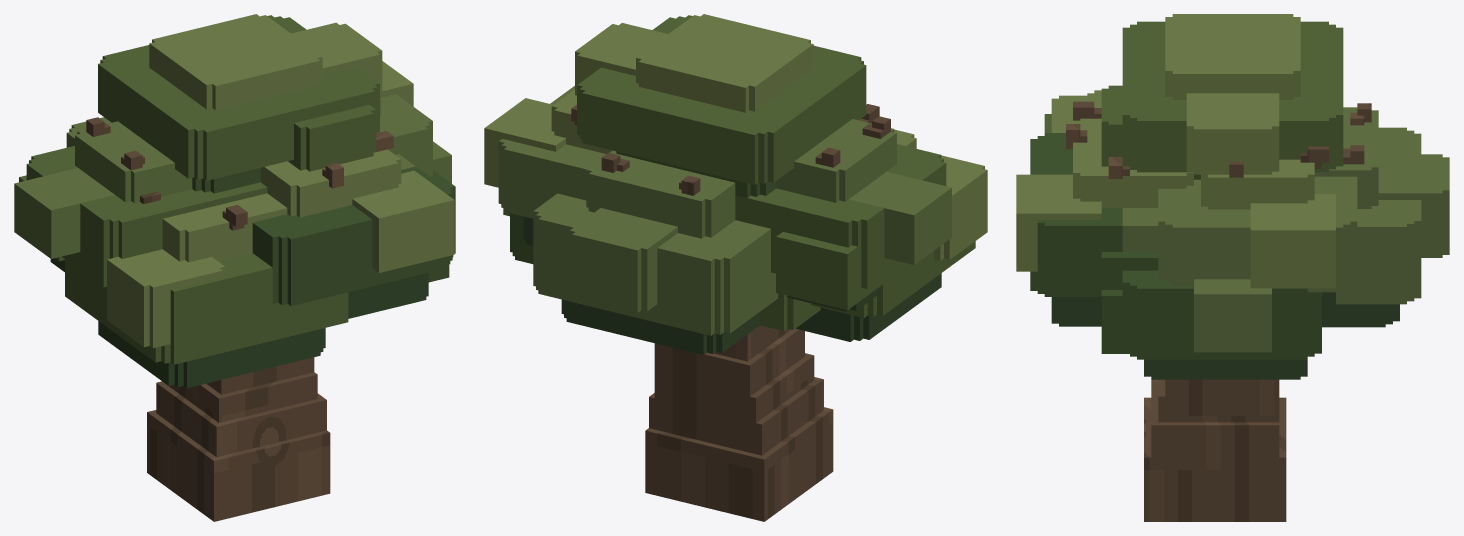
The model's file is apple_ancient.glb.
3 views of the same model, side by side, from view 1: azimuth 30°, elevation 25°; view 2: azimuth 150°, elevation 25°; view 3: azimuth 270°, elevation 25° (orthographic). The views are drawn at different scales.
Parts seen in each view (by area): view 1: VoxelVisual; view 2: VoxelVisual; view 3: VoxelVisual.
Part boxes in pixels (x1=…): VoxelVisual: x1=14, y1=14, x2=455, y2=521; VoxelVisual: x1=484, y1=14, x2=987, y2=521; VoxelVisual: x1=1016, y1=14, x2=1449, y2=521.
Size of what is drawn, in the model's own units: 17.25 by 17.5 by 15.25.
